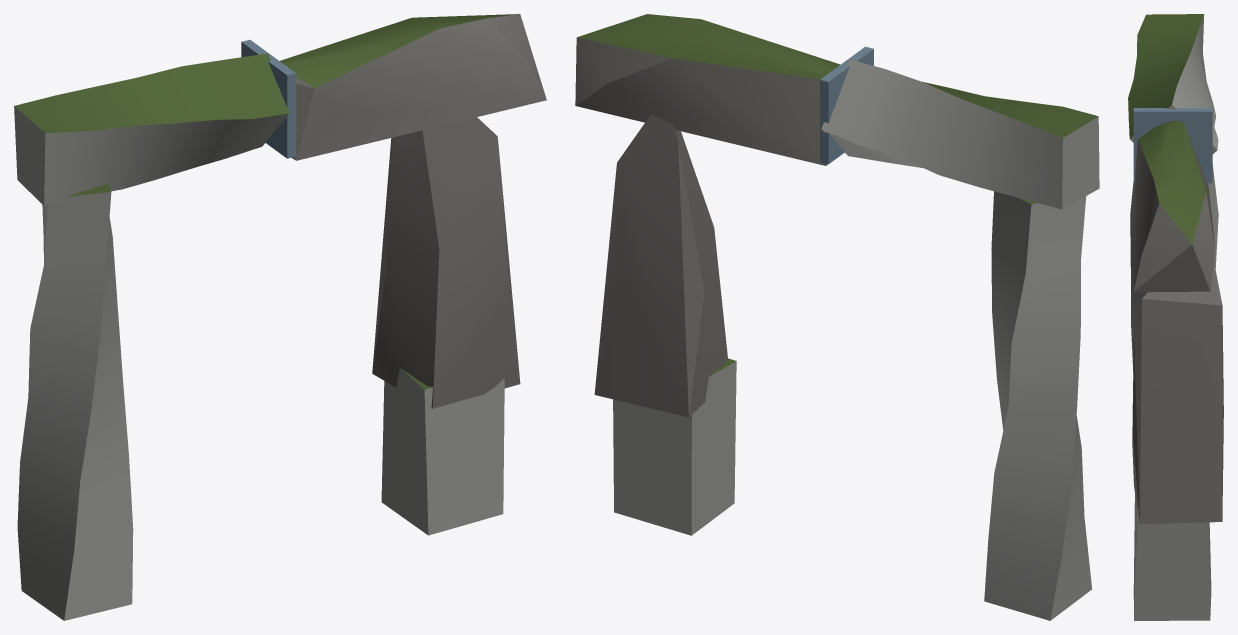
Rendered from UnfinishedDoor.fbx.
3 views of the same model, side by side, from view 1: azimuth 30°, elevation 25°; view 2: azimuth 150°, elevation 25°; view 3: azimuth 270°, elevation 25° (orthographic). The views are drawn at different scales.
Visible parts, largest first — view 1: UnfinishedDoor; view 2: UnfinishedDoor; view 3: UnfinishedDoor.
Boxes of the visible parts, x1,y1,x2,y2 form: UnfinishedDoor: [14, 14, 546, 620]; UnfinishedDoor: [575, 14, 1099, 620]; UnfinishedDoor: [1128, 14, 1223, 620].
Size of the model in its own units: 3.41 by 3.25 by 0.6548.
